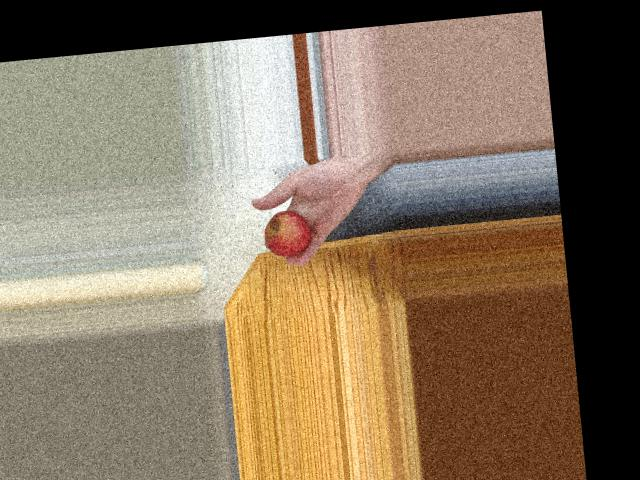apple: (260, 205, 311, 260)
